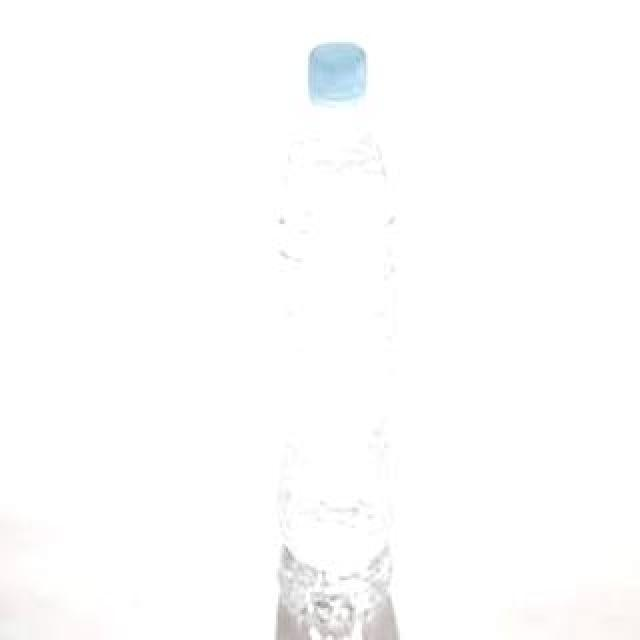Pet_Bottle: (259, 33, 411, 587)
